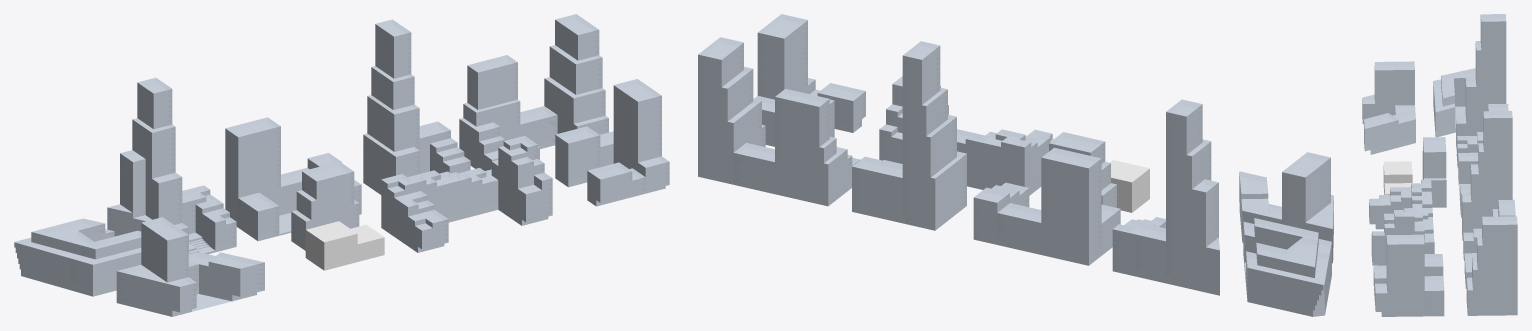
The model's file is building_block1.glb.
3 renders of one model, left to right at view 1: azimuth 30°, elevation 25°; view 2: azimuth 150°, elevation 25°; view 3: azimuth 270°, elevation 25°, orthographic. The views are drawn at different scales.
Visible parts, largest first — view 1: Geom3D (×3); view 2: Geom3D (×3), Geom3D_Group#81; view 3: Geom3D (×3).
Boxes of the visible parts, x1=… form: Geom3D (×3): x1=14, y1=14, x2=669, y2=316; Geom3D (×3): x1=698, y1=14, x2=1333, y2=316; Geom3D_Group#81: x1=973, y1=187, x2=1009, y2=207; Geom3D (×3): x1=1362, y1=14, x2=1517, y2=316.
Bounding box in the file's own units: 426 × 112 × 124.
